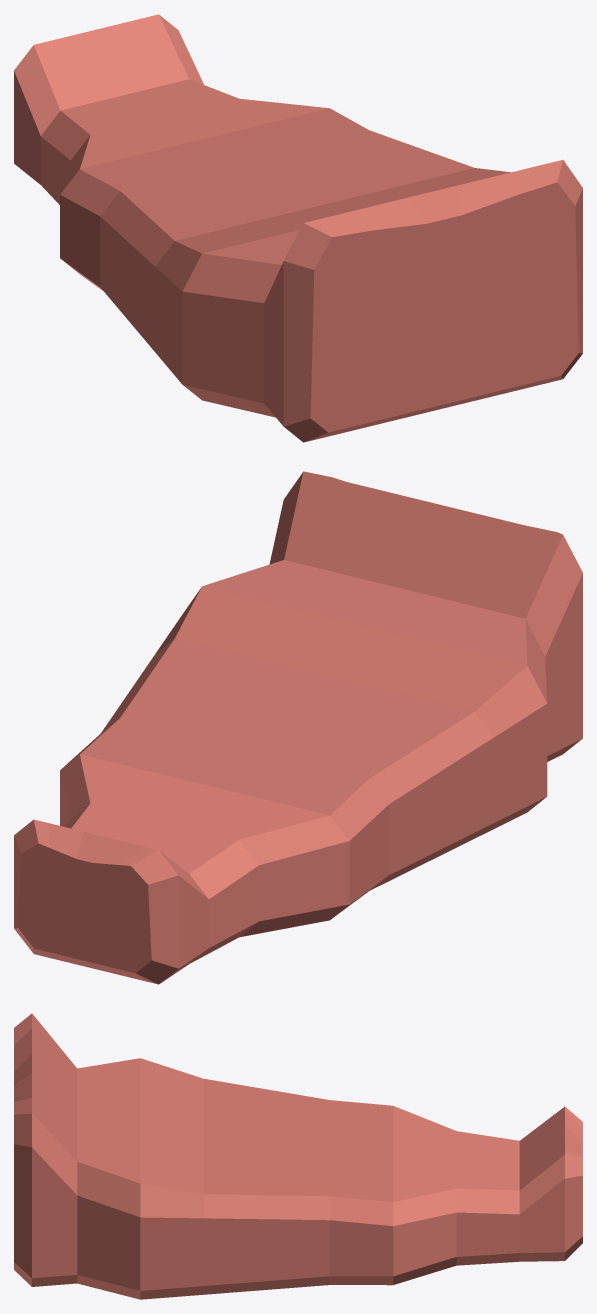
The model's file is calder_scout_a.glb.
3 renders of one model, top to bottom at view 1: azimuth 30°, elevation 25°; view 2: azimuth 150°, elevation 25°; view 3: azimuth 270°, elevation 25°, orthographic. The views are drawn at different scales.
Parts seen in each view (by area): view 1: calder_scout_a; view 2: calder_scout_a; view 3: calder_scout_a.
Boxes of the visible parts, x1=… form: calder_scout_a: x1=14, y1=14, x2=582, y2=442; calder_scout_a: x1=14, y1=471, x2=582, y2=984; calder_scout_a: x1=14, y1=1013, x2=582, y2=1299.
Size of the model in its own units: 2.4 by 1.38 by 4.1.
